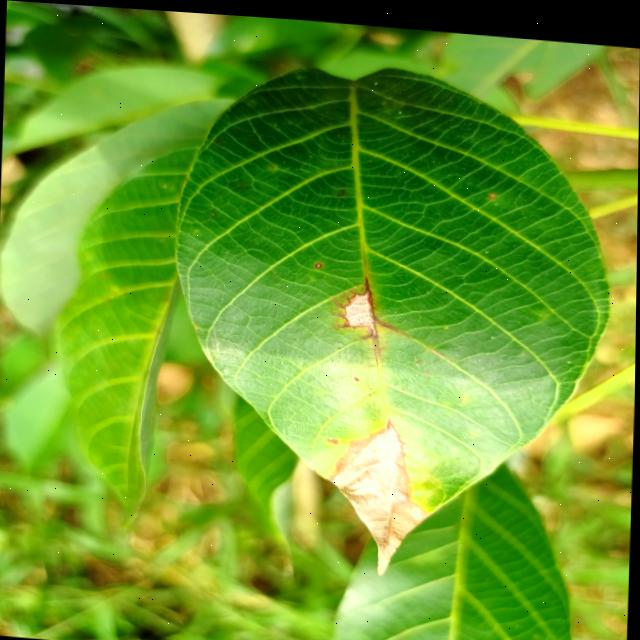Colletotrichum: (314, 257, 322, 264)
Corynespora: (331, 269, 411, 360)
Leaf-Blight: (329, 417, 433, 572), (344, 286, 376, 329)
